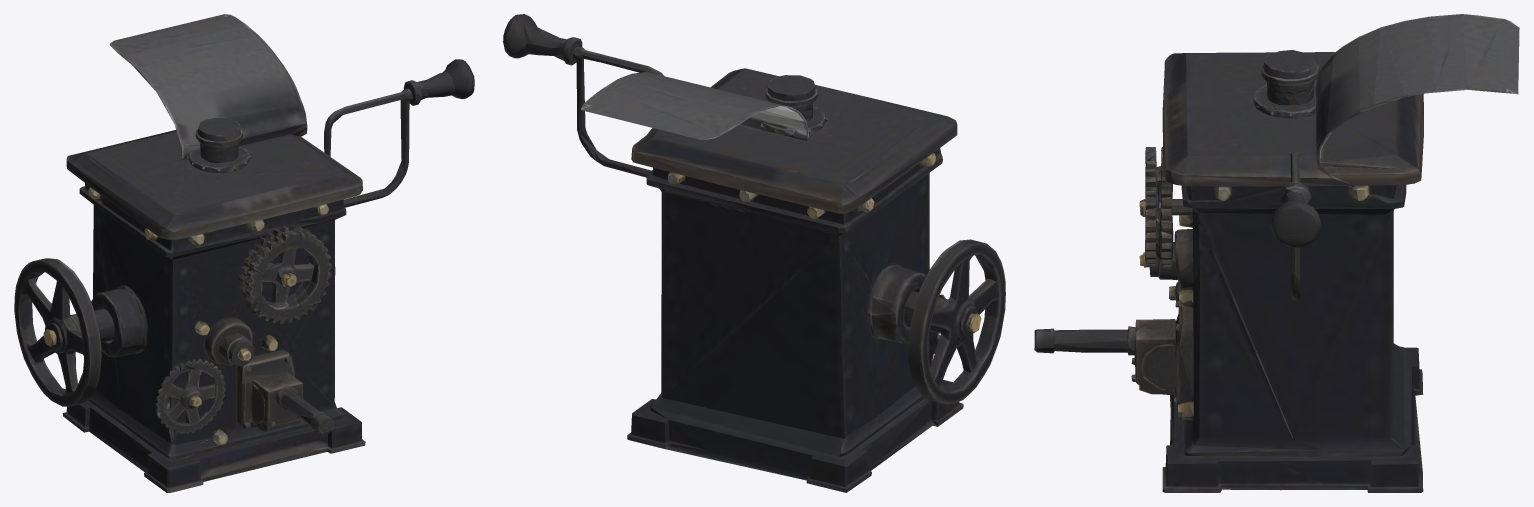
File: shredder.glb
3 views of the same model, side by side, from view 1: azimuth 30°, elevation 25°; view 2: azimuth 150°, elevation 25°; view 3: azimuth 270°, elevation 25° (orthographic). The views are drawn at different scales.
Size of the model in its own units: 1.9 by 1.43 by 1.54.
1 material, 1 textured.
